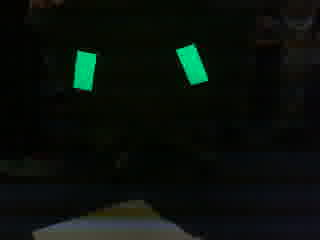target: (71, 43, 209, 92)
